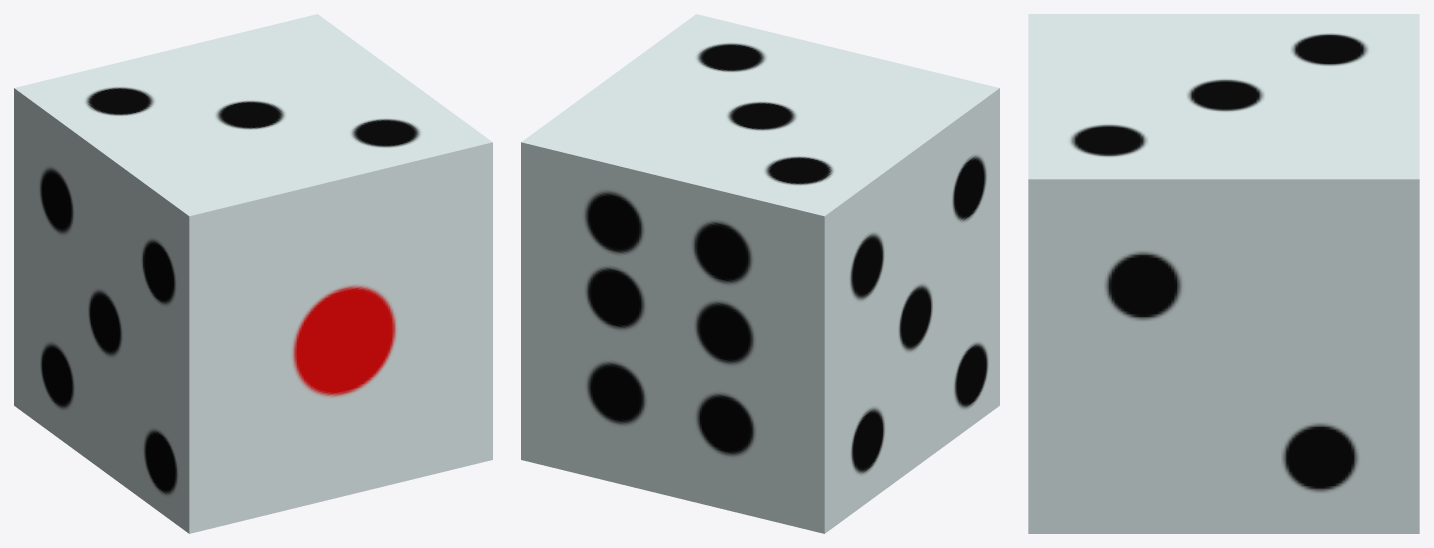
File: Dice.fbx
3 renders of one model, left to right at view 1: azimuth 30°, elevation 25°; view 2: azimuth 150°, elevation 25°; view 3: azimuth 270°, elevation 25°, orthographic. The views are drawn at different scales.
Parts seen in each view (by area): view 1: pCube3; view 2: pCube3; view 3: pCube3.
Boxes of the visible parts, x1,y1,x2,y2 form: pCube3: (14, 14, 492, 533); pCube3: (521, 14, 999, 533); pCube3: (1028, 14, 1419, 533).
Bounding box in the file's own units: 1 × 1 × 1.
1 material, 1 textured.
